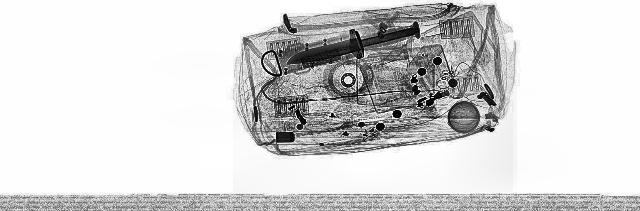Knife: (270, 26, 430, 66)
